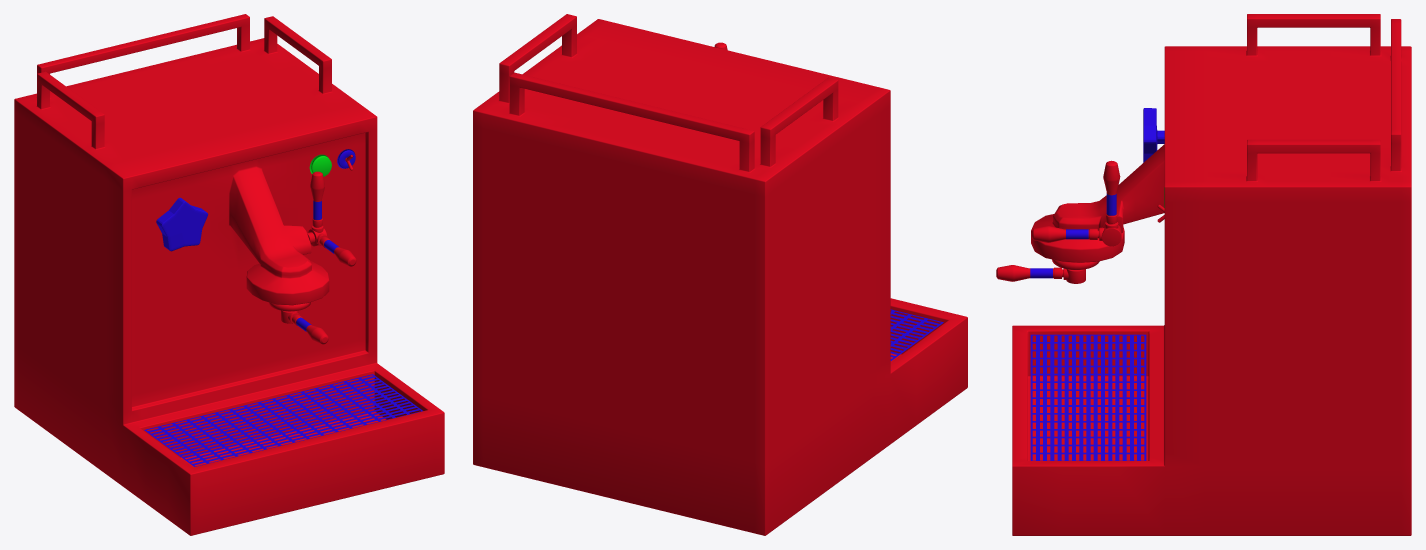
File: SiebtraegerV2.fbx
The picture shows the model from 3 angles, left to right: view 1: azimuth 30°, elevation 25°; view 2: azimuth 150°, elevation 25°; view 3: azimuth 270°, elevation 25°; orthographic projection. The views are drawn at different scales.
Parts seen in each view (by area): view 1: Maschine, Grill, Valve, Pump Lever Off.001, Pump Lever On, Pump Lever Off; view 2: Maschine, Grill; view 3: Maschine, Grill, Pump Lever Off.001, Pump Lever Off, Pump Lever On, Valve.
Boxes of the visible parts, <box> form: Maschine: <box>14,14,444,535</box>; Grill: <box>144,374,422,466</box>; Valve: <box>156,197,208,251</box>; Pump Lever Off.001: <box>268,302,328,344</box>; Pump Lever On: <box>307,171,324,245</box>; Pump Lever Off: <box>308,228,356,266</box>; Maschine: <box>473,14,967,535</box>; Grill: <box>890,309,943,360</box>; Maschine: <box>1012,14,1411,535</box>; Grill: <box>1030,334,1146,460</box>; Pump Lever Off.001: <box>996,259,1099,283</box>; Pump Lever Off: <box>1032,225,1121,246</box>; Pump Lever On: <box>1102,160,1121,246</box>; Valve: <box>1143,108,1164,162</box>.
Size of the model in its own units: 50 by 66.21 by 62.37.
